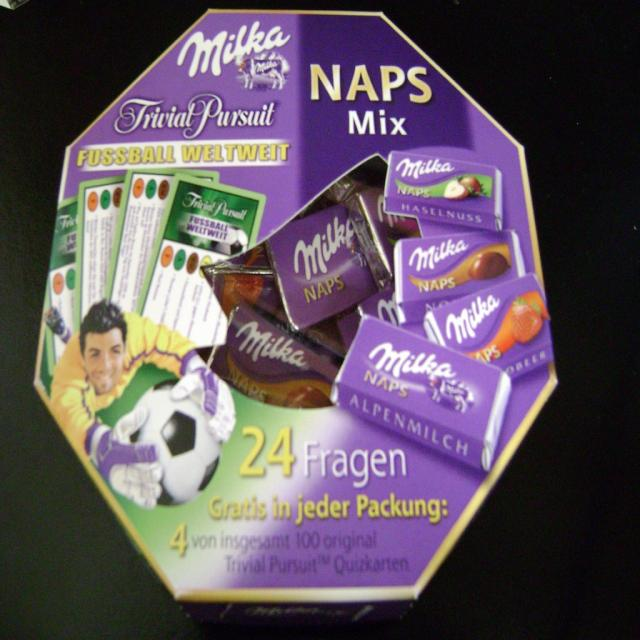milka: (176, 19, 297, 95), (293, 214, 356, 281), (235, 321, 309, 374), (369, 338, 459, 380), (446, 293, 502, 345), (405, 239, 469, 275), (395, 157, 456, 183)
